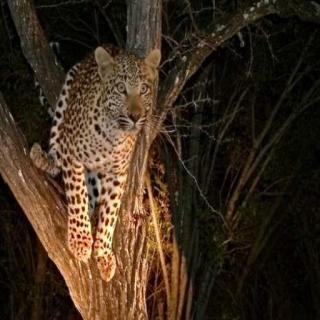Leopard: (19, 15, 185, 244)
